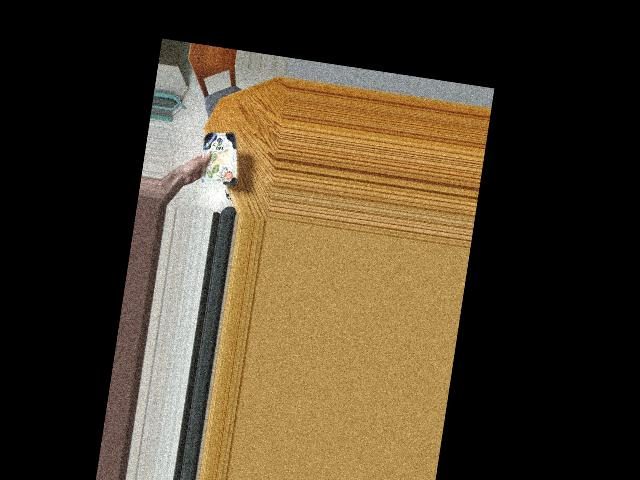cheese: (191, 128, 243, 187)
